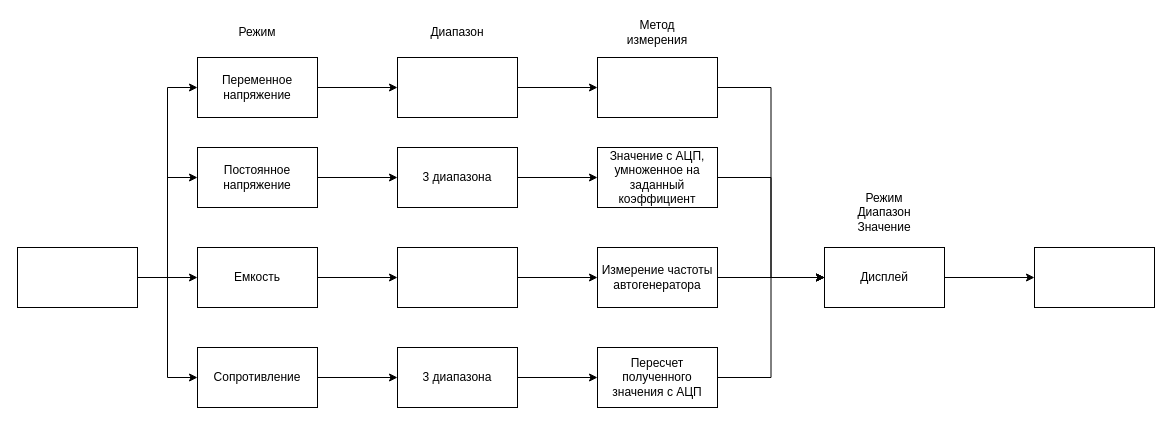
This 1172x425 diagram has some shape labels left out. Here are the shapes that lost their labels. From the top down, the centre of each, then its label:
At [457,87]: "Макс 1 кГц частота, измеряемый размах - не определено".
At [657,87]: "Не определено наверняка".
At [77,277]: "Выбор режимов галетным переключателем".
At [457,277]: "Пока что один диапазон".
At [1094,277]: "2 раза в секунду вывод (пока условно)".
